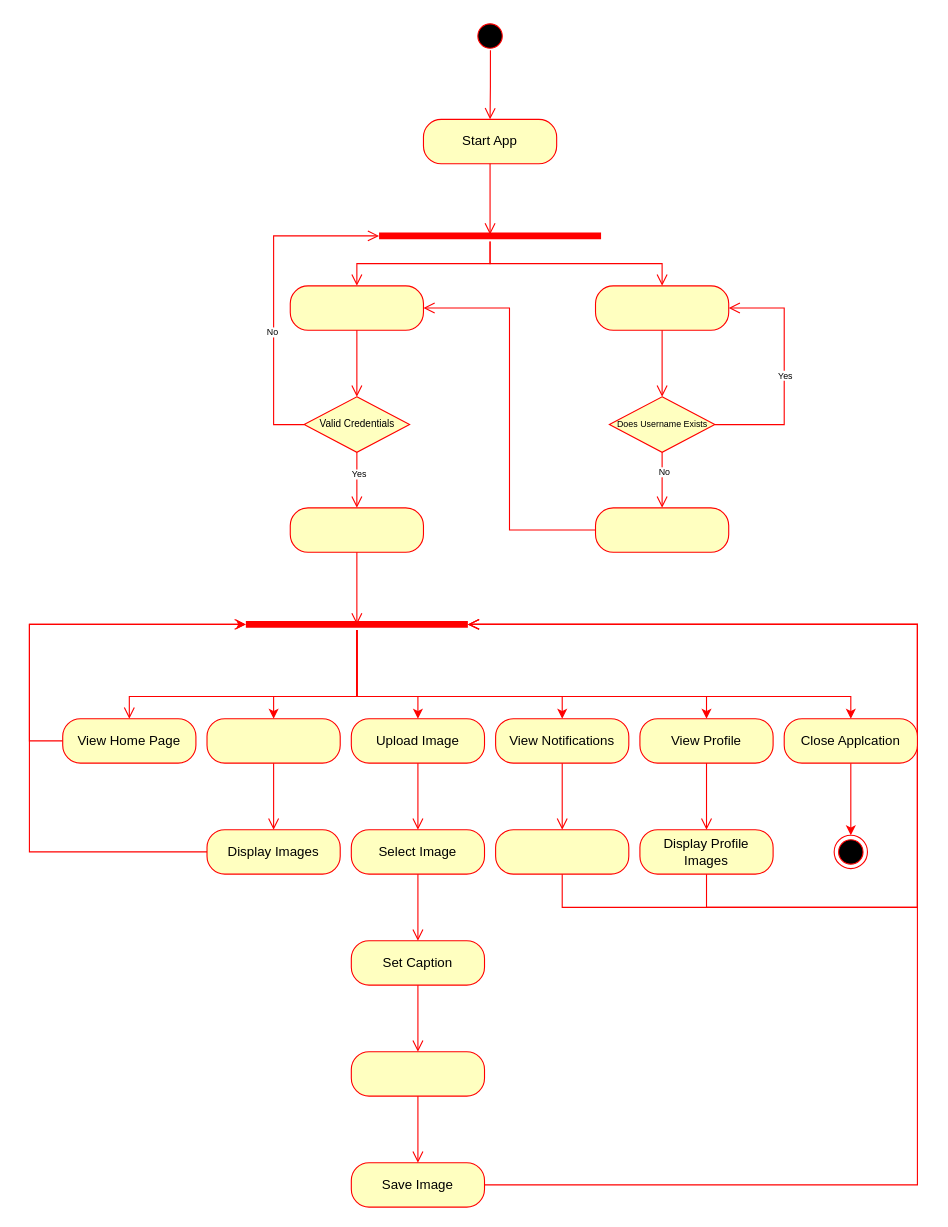
The diagram is 948 pixels wide and 1227 high, and some of its shapes have lost their labels. The centre of each missing label's shape, as x and y in pixels:
"Create Accoint" belongs at point 661,529.
"Display Notifications" belongs at point 562,851.
"Display Profile" belongs at point 356,529.
"Sign In" belongs at point 356,307.
"Sign Up" belongs at point 661,307.
"Upload" belongs at point 417,1073.
"View Explore" belongs at point 273,740.
